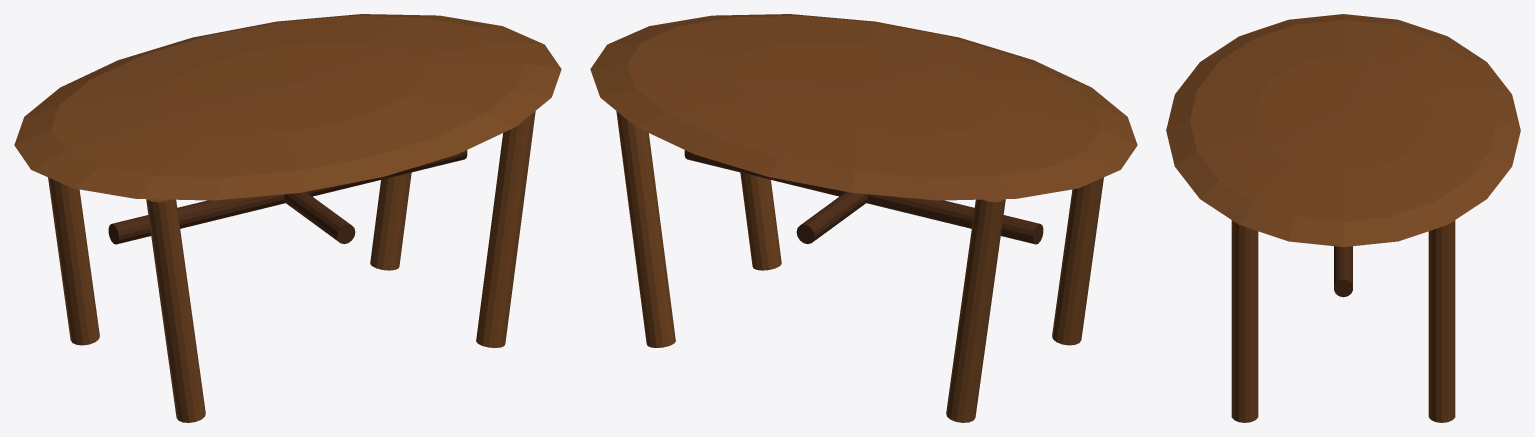
The model's file is camp_table.obj.
The picture shows the model from 3 angles, left to right: view 1: azimuth 30°, elevation 25°; view 2: azimuth 150°, elevation 25°; view 3: azimuth 270°, elevation 25°; orthographic projection. The views are drawn at different scales.
Visible parts, largest first — view 1: round_table_top, leg_-0.45_0.25, leg_0.45_0.25, leg_-0.45_-0.25, support_cross_x, leg_0.45_-0.25, support_cross_z; view 2: round_table_top, leg_-0.45_-0.25, leg_0.45_-0.25, leg_-0.45_0.25, support_cross_x, leg_0.45_0.25, support_cross_z; view 3: round_table_top, leg_0.45_-0.25, leg_0.45_0.25, support_cross_x.
Boxes of the visible parts, left/top/right/bottom form: round_table_top: left=14, top=14, right=561, bottom=200; leg_-0.45_0.25: left=146, top=199, right=205, bottom=422; leg_0.45_0.25: left=476, top=111, right=535, bottom=347; leg_-0.45_-0.25: left=48, top=177, right=99, bottom=345; support_cross_x: left=108, top=150, right=467, bottom=244; leg_0.45_-0.25: left=370, top=172, right=411, bottom=270; support_cross_z: left=284, top=191, right=355, bottom=243; round_table_top: left=590, top=14, right=1137, bottom=200; leg_-0.45_-0.25: left=946, top=199, right=1005, bottom=422; leg_0.45_-0.25: left=616, top=111, right=675, bottom=347; leg_-0.45_0.25: left=1052, top=177, right=1103, bottom=345; support_cross_x: left=684, top=150, right=1043, bottom=244; leg_0.45_0.25: left=740, top=172, right=781, bottom=270; support_cross_z: left=796, top=191, right=867, bottom=243; round_table_top: left=1166, top=14, right=1520, bottom=247; leg_0.45_-0.25: left=1428, top=220, right=1455, bottom=422; leg_0.45_0.25: left=1231, top=220, right=1258, bottom=422; support_cross_x: left=1334, top=246, right=1352, bottom=297.
Size of the model in its own units: 1.4 by 0.667 by 0.9.
